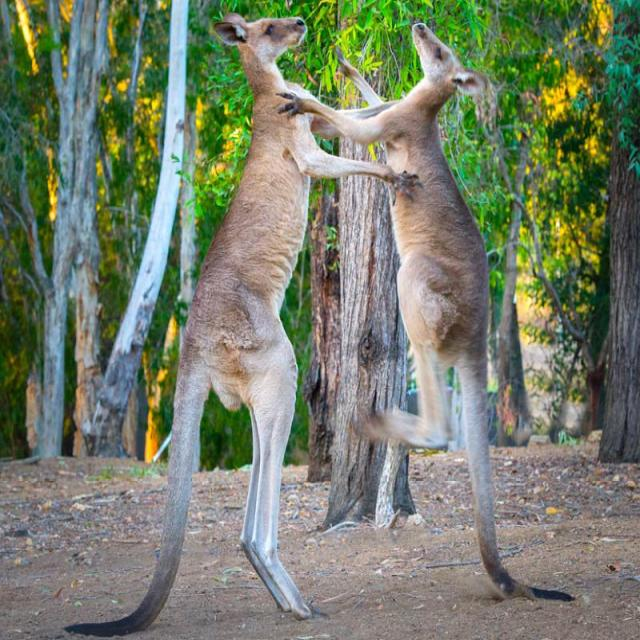Kangaroo: (60, 5, 422, 640), (280, 26, 596, 619)
